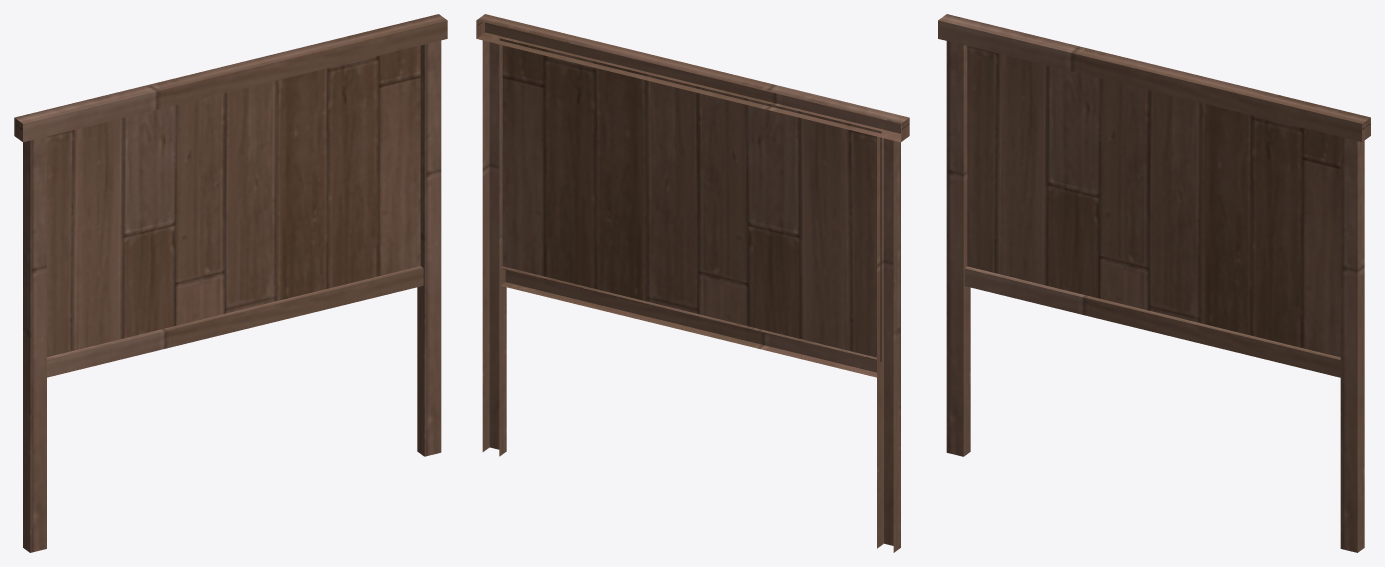
The model's file is Julebu_Paizi_fbx.FBX.
3 views of the same model, side by side, from view 1: azimuth 30°, elevation 25°; view 2: azimuth 150°, elevation 25°; view 3: azimuth 330°, elevation 25° (orthographic).
Parts seen in each view (by area): view 1: Plane025; view 2: Plane025; view 3: Plane025.
Boxes of the visible parts, <box> form: Plane025: <box>14,14,447,552</box>; Plane025: <box>476,14,909,552</box>; Plane025: <box>938,14,1370,552</box>.
Bounding box in the file's own units: 2.52 × 2.44 × 0.09.
